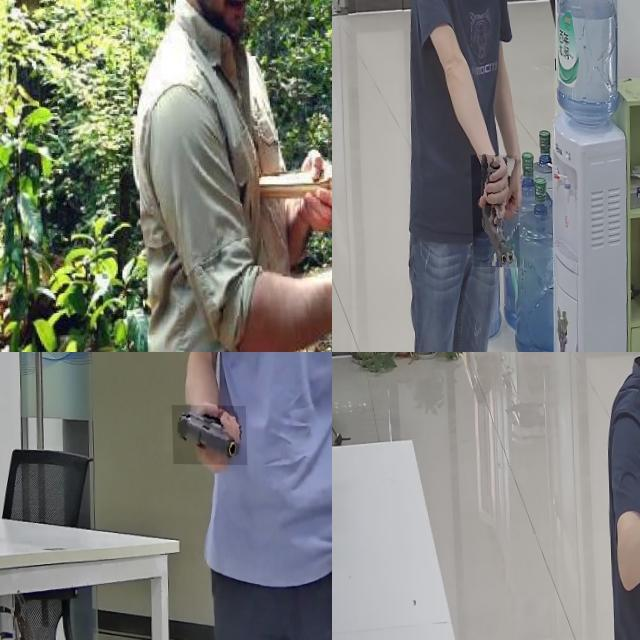gun-knife-thesis - v11 Yolov5 augmented: (469, 154, 518, 266), (170, 404, 246, 464)
